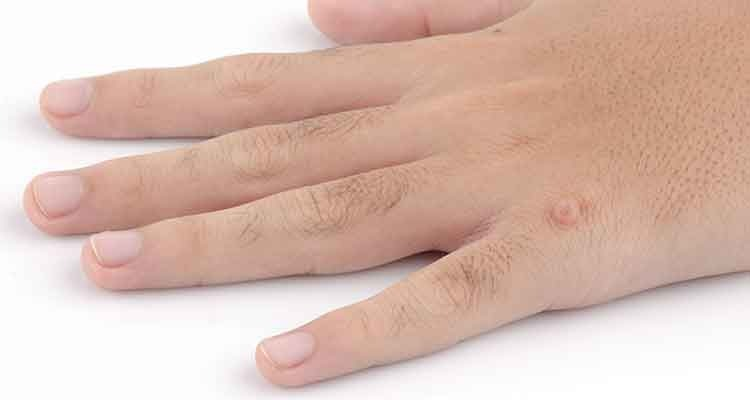Warts: (544, 185, 596, 237)
